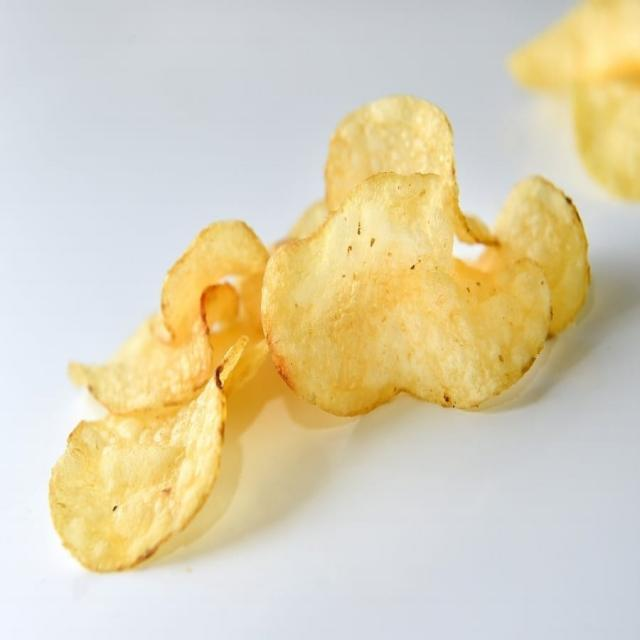Chips packaged: (261, 177, 563, 433), (42, 332, 253, 578)
